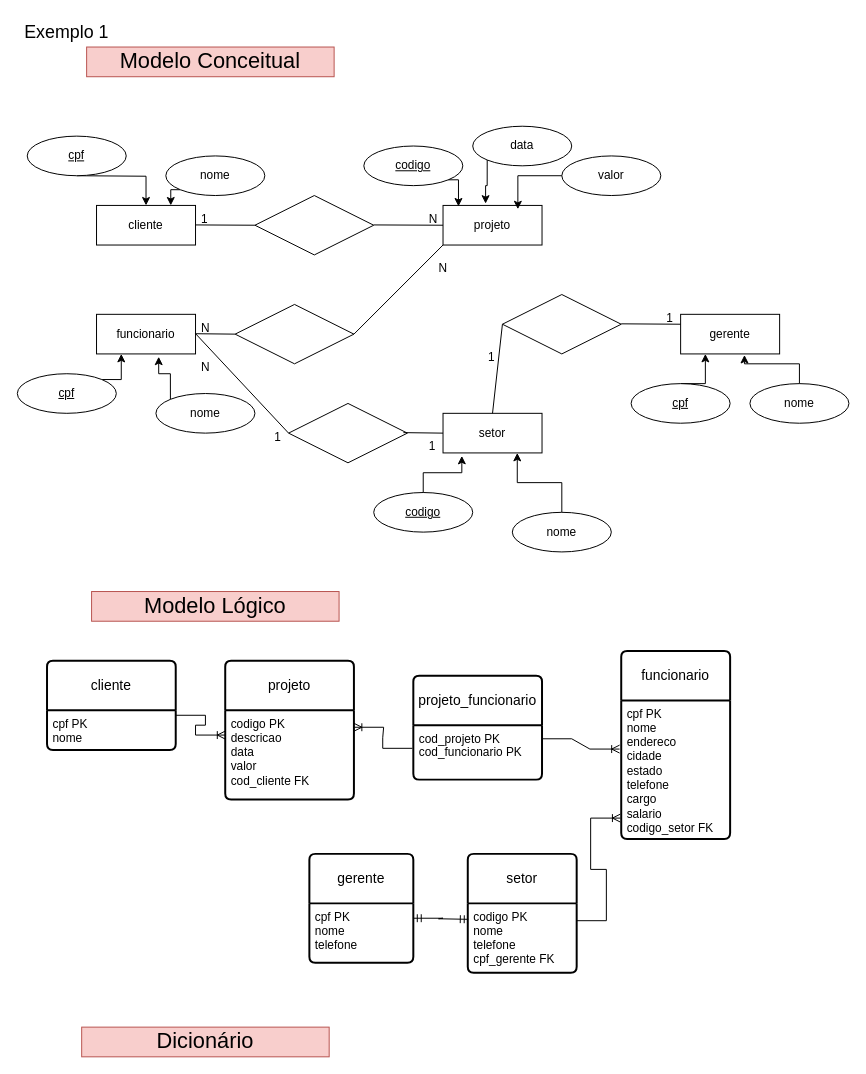
Image size: 866x1074. Some labels were removed from this diagram. Each missing label, with the centre of its shape:
"analisar" goes at point 294,333.
"coordenado" goes at point 561,324.
"pertence" goes at point 347,432.
"solicitar" goes at point 314,225.
